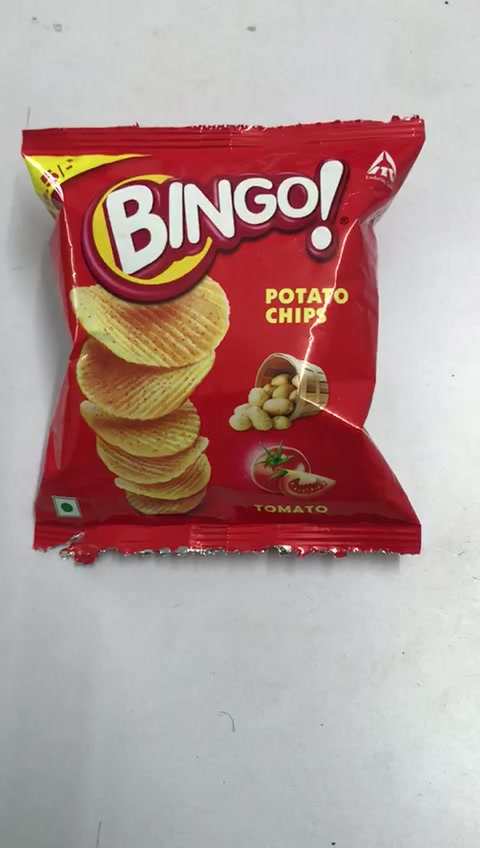bingo: (22, 128, 427, 551)
